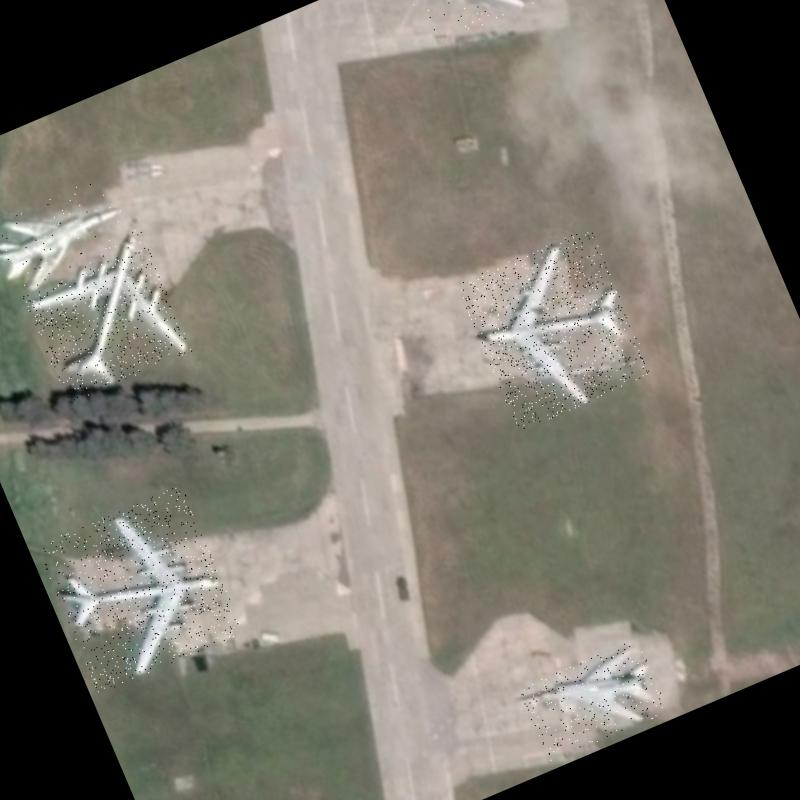A12: (518, 638, 669, 762), (0, 174, 137, 301), (397, 0, 551, 49)
A17: (36, 484, 244, 694), (456, 227, 653, 432), (16, 227, 192, 404)
